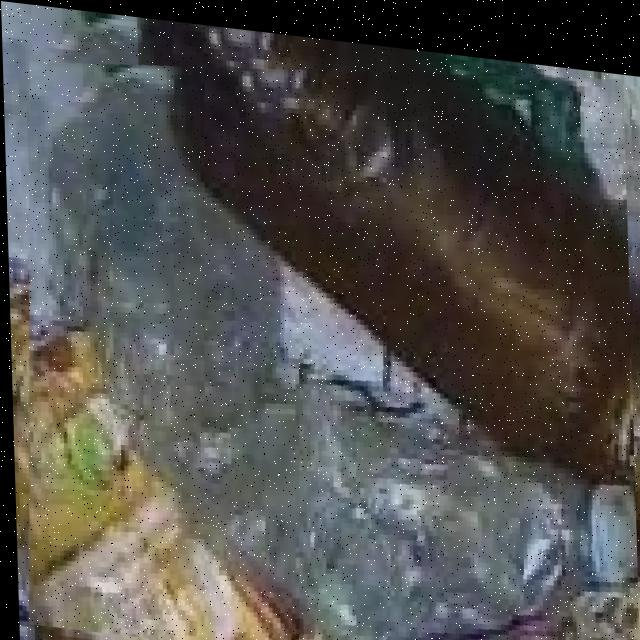plasticbottle: (23, 50, 632, 640), (136, 13, 640, 499)
